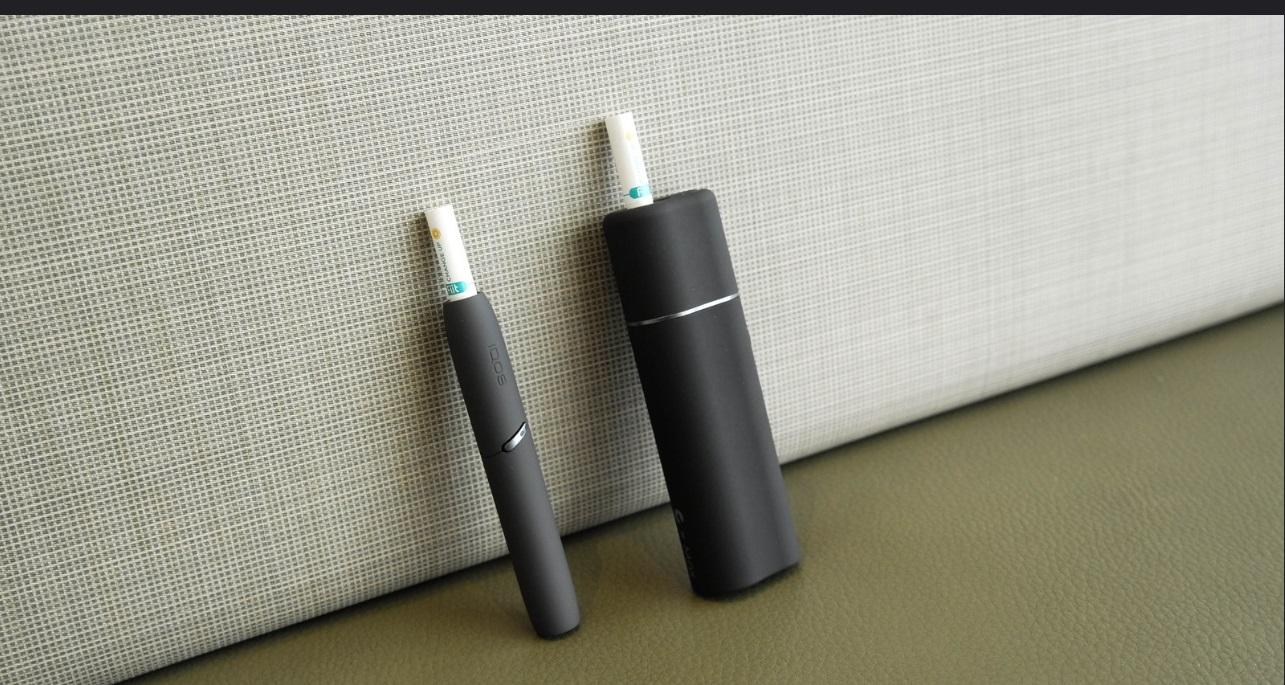iqos: (604, 113, 798, 595), (427, 205, 579, 637)
